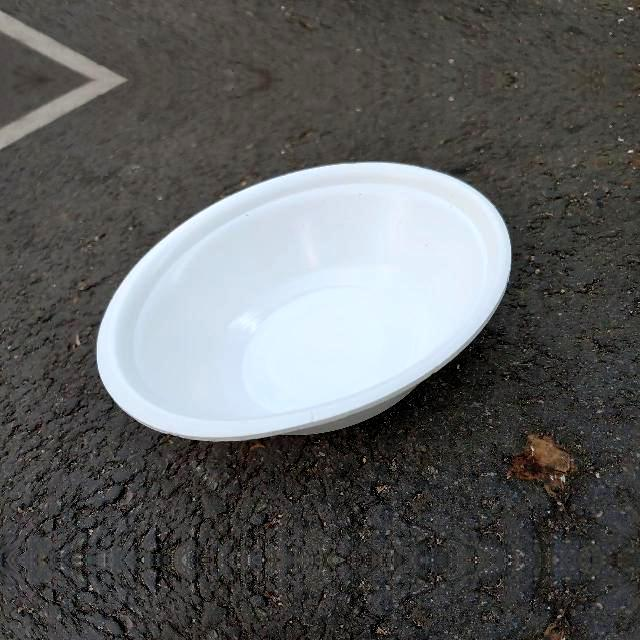Styrofoam: (98, 160, 512, 442), (97, 162, 512, 441)
